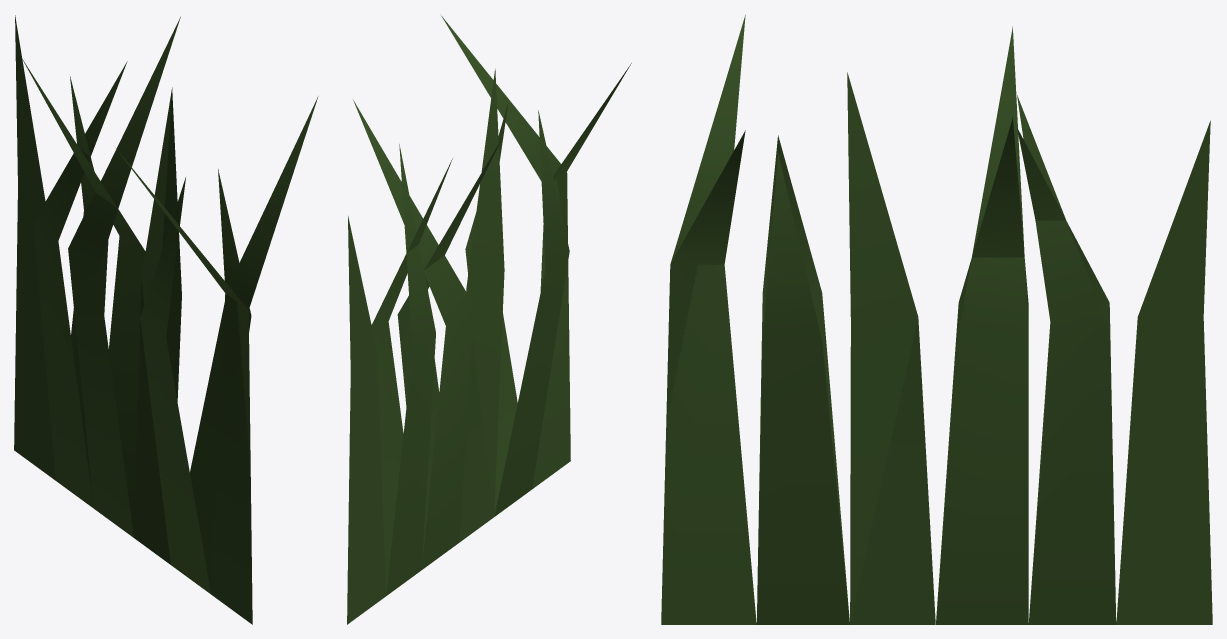
File: M_grass.fbx
The picture shows the model from 3 angles, left to right: view 1: azimuth 30°, elevation 25°; view 2: azimuth 150°, elevation 25°; view 3: azimuth 270°, elevation 25°; orthographic projection. The views are drawn at different scales.
Parts seen in each view (by area): view 1: model_Grass2; view 2: model_Grass2; view 3: model_Grass2.
Part boxes in pixels (x1,y1,x2,y2): model_Grass2: (14,15,318,624); model_Grass2: (347,14,631,624); model_Grass2: (661,15,1212,624).
Size of the model in its own units: 1.53 by 3.42 by 3.08.
